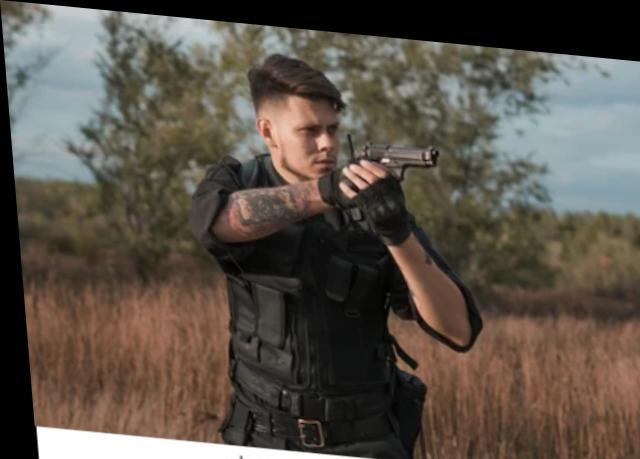other: (184, 60, 435, 446)
